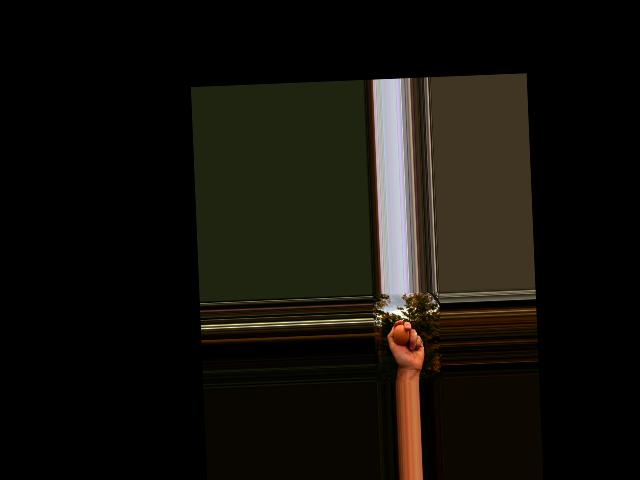egg: (393, 324, 410, 345)
